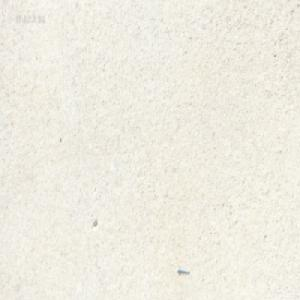Nail: (176, 265, 189, 274)
